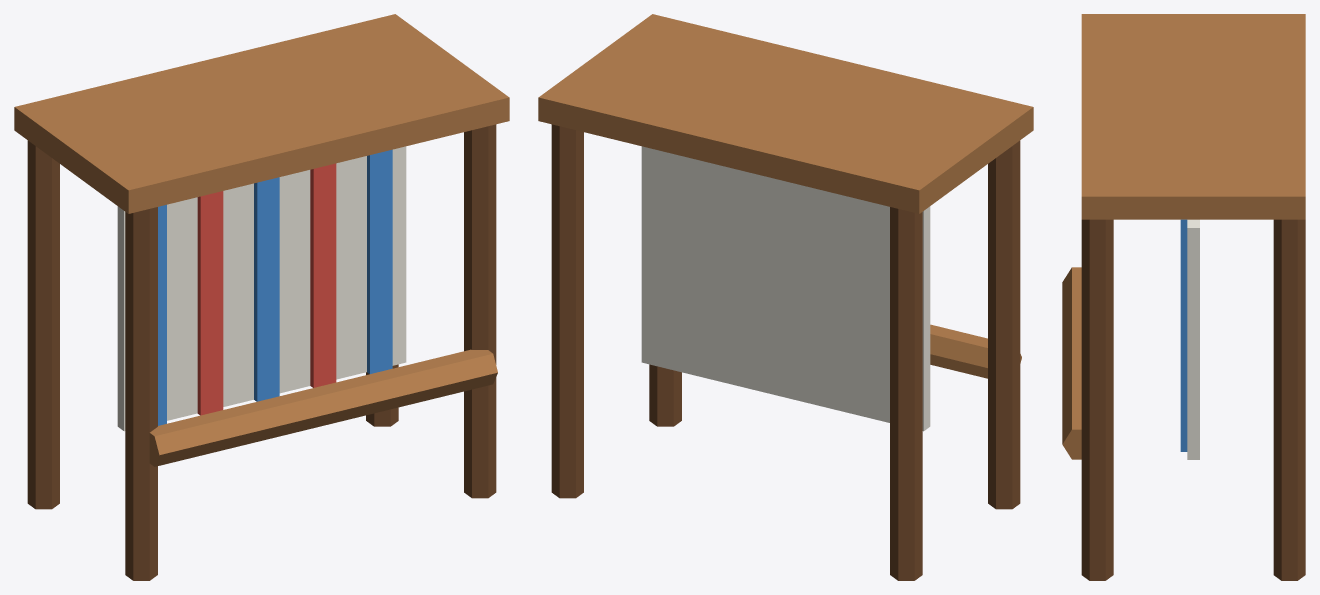
File: machine_loom.glb
3 renders of one model, left to right at view 1: azimuth 30°, elevation 25°; view 2: azimuth 150°, elevation 25°; view 3: azimuth 270°, elevation 25°, orthographic.
Parts seen in each view (by area): view 1: machine_loom; view 2: machine_loom; view 3: machine_loom.
Part boxes in pixels (x1=…): machine_loom: x1=14, y1=14, x2=509, y2=580; machine_loom: x1=538, y1=14, x2=1033, y2=580; machine_loom: x1=1062, y1=14, x2=1305, y2=580.
Bounding box in the file's own units: 1.35 × 1.34 × 0.76.
